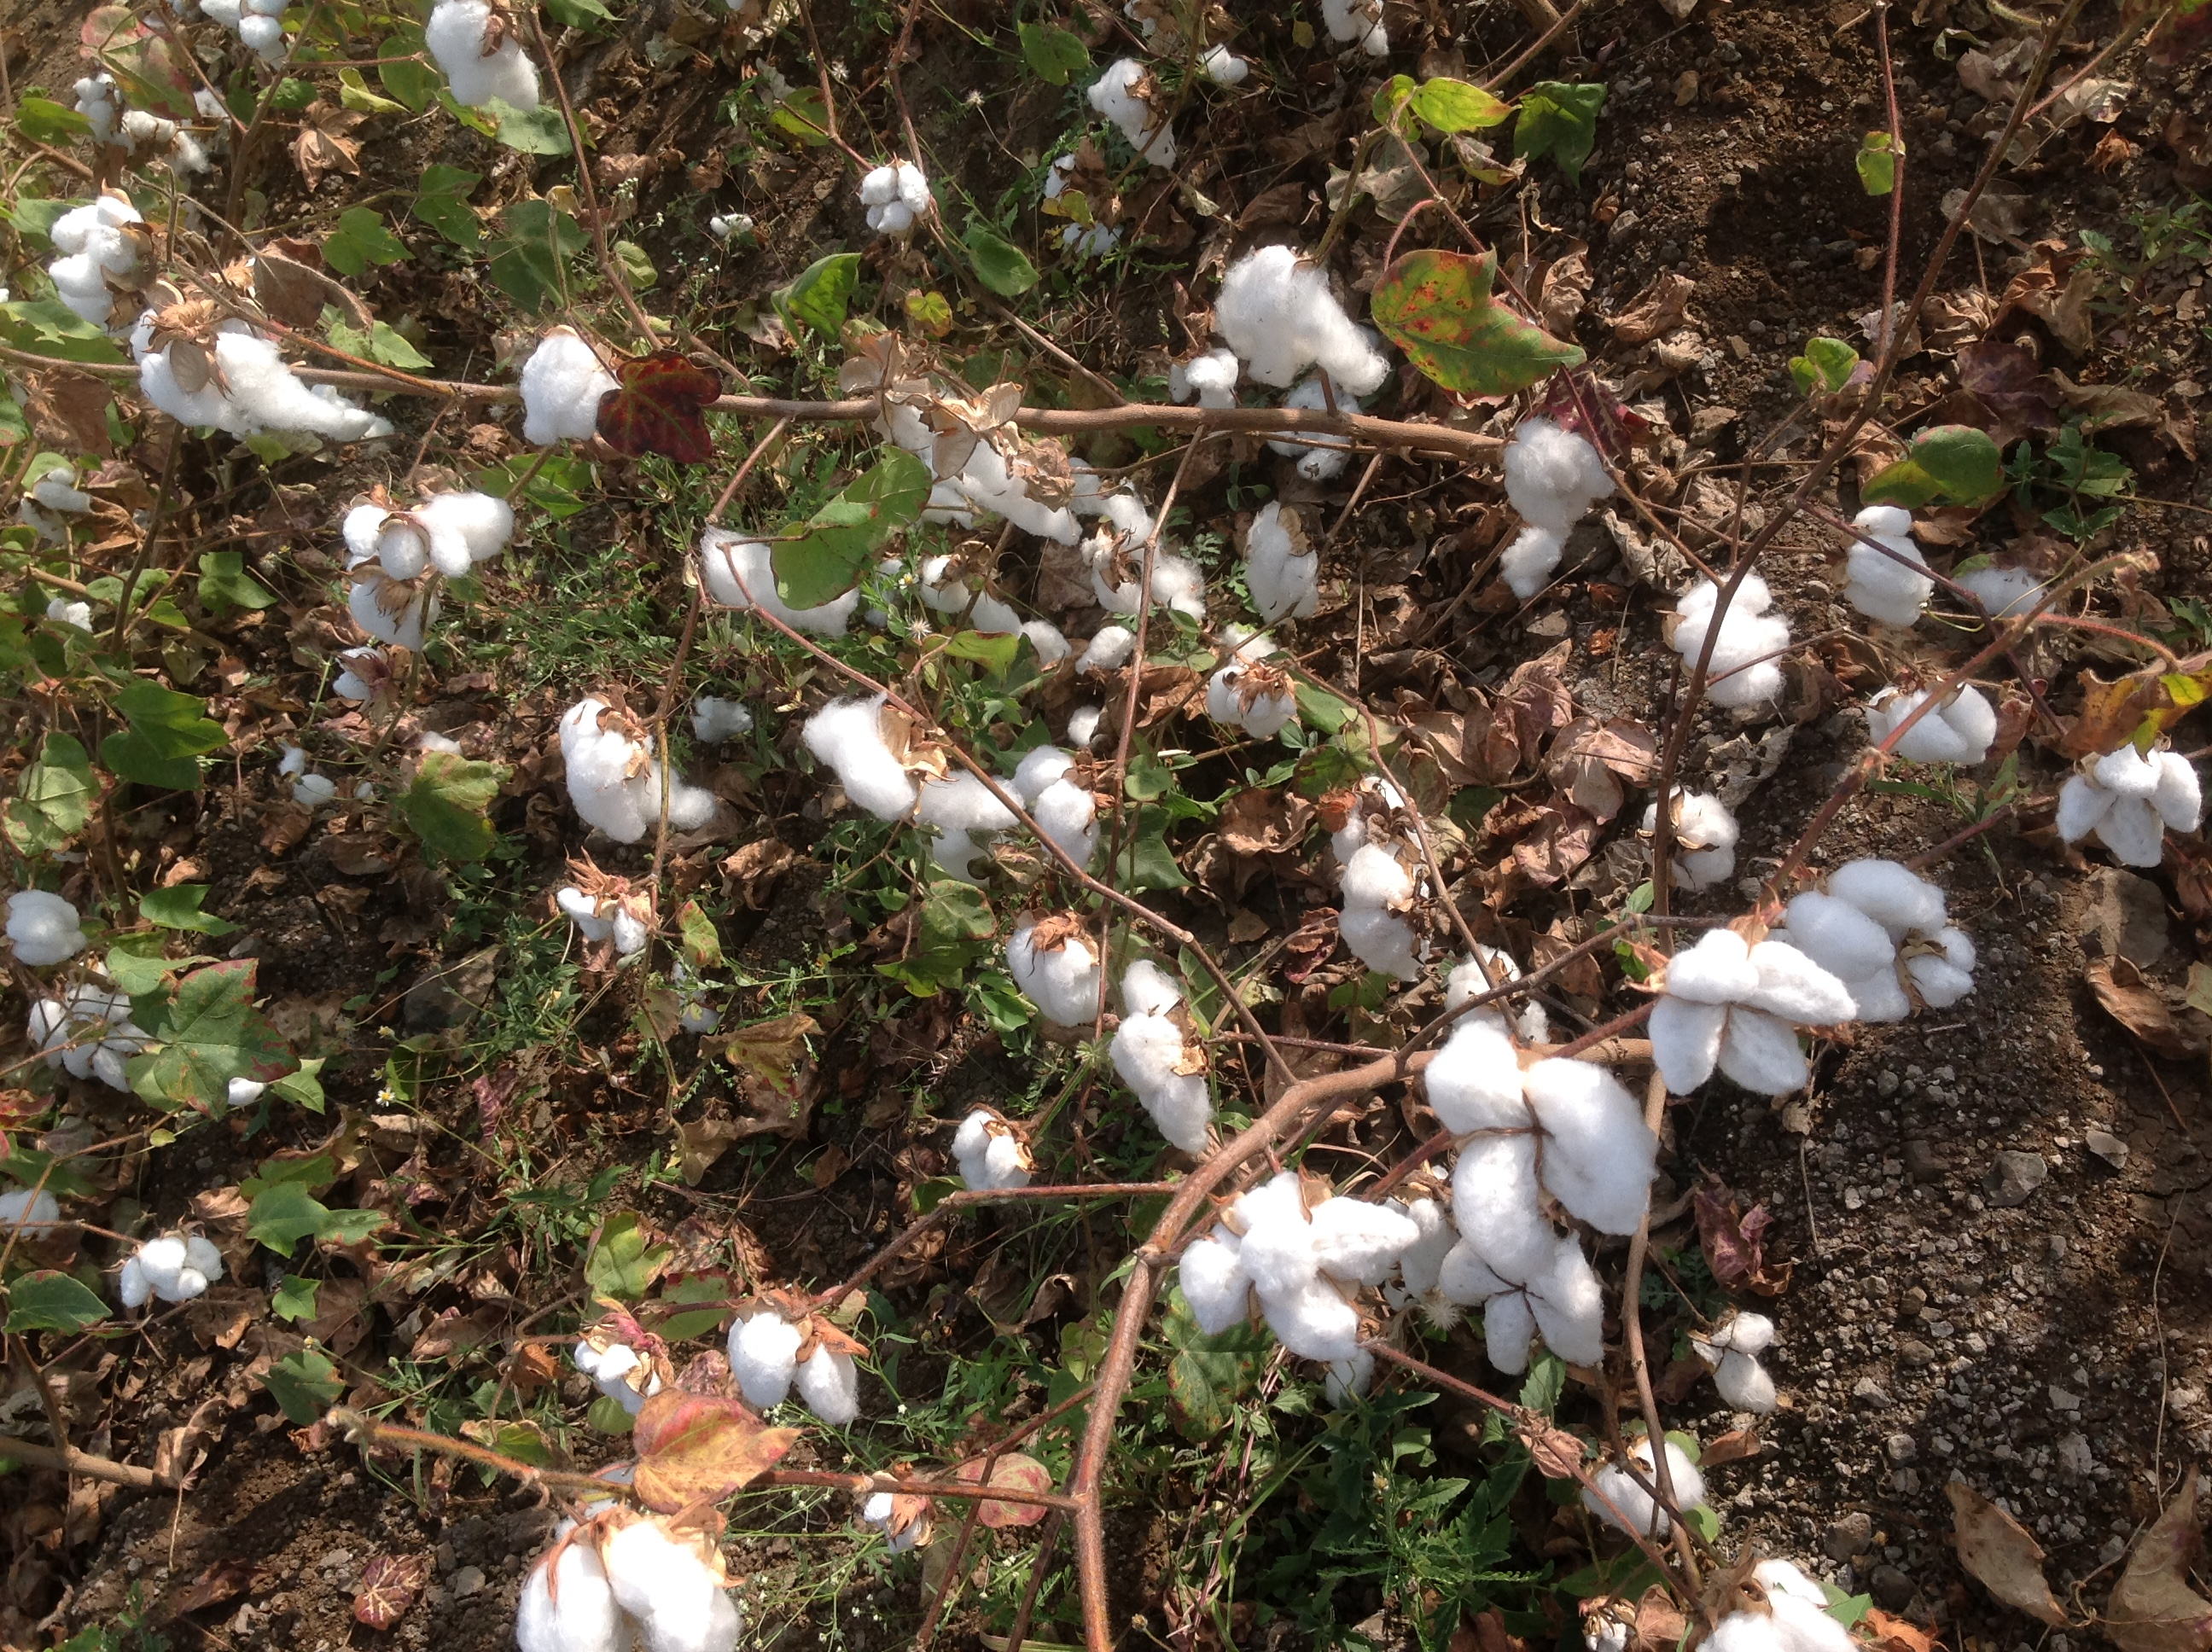cotton: (1407, 1015, 1662, 1298), (1171, 1164, 1417, 1402), (531, 1456, 748, 1652), (1633, 921, 1855, 1111), (1757, 861, 1983, 1034), (127, 309, 397, 448), (1582, 1539, 1895, 1649), (26, 975, 274, 1111), (1450, 1208, 1612, 1402), (340, 489, 526, 654), (1320, 783, 1456, 1000), (550, 687, 703, 866), (2051, 725, 2209, 885), (725, 1277, 880, 1435), (1095, 963, 1223, 1150), (1483, 429, 1617, 606), (791, 682, 952, 828), (1213, 246, 1391, 375), (687, 517, 874, 635), (919, 764, 1041, 927), (45, 191, 179, 331), (1669, 574, 1796, 722), (409, 0, 564, 118), (512, 318, 637, 463), (1853, 672, 2021, 779), (71, 59, 215, 180), (1005, 614, 1147, 734), (1818, 510, 1941, 642), (1565, 1435, 1704, 1544), (557, 1329, 694, 1433), (1449, 939, 1561, 1064), (1209, 503, 1327, 619), (1697, 1298, 1790, 1428), (1088, 62, 1190, 179), (1006, 755, 1110, 866), (1001, 927, 1114, 1027), (1261, 371, 1376, 469), (546, 873, 670, 961), (10, 878, 99, 989), (949, 1111, 1036, 1222), (913, 541, 1018, 628), (172, 0, 312, 54), (127, 1234, 234, 1301), (845, 154, 939, 227), (264, 746, 333, 816), (1322, 0, 1388, 66)
